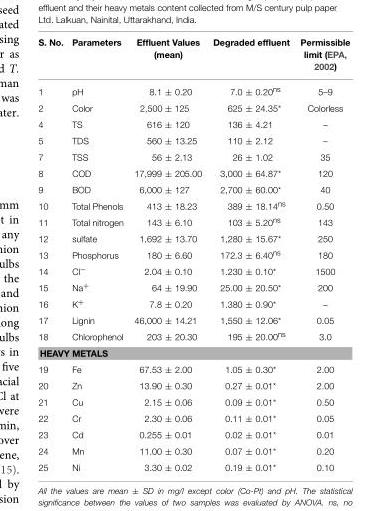table: (37, 37, 349, 471)
table column: (206, 37, 294, 471), (128, 37, 206, 471), (66, 37, 128, 471), (294, 37, 349, 471), (37, 37, 66, 471)
table column header: (37, 37, 349, 78)
table projected row header: (37, 344, 349, 361)
table row: (37, 37, 349, 78), (37, 78, 349, 99), (37, 99, 349, 116), (37, 148, 349, 165), (37, 196, 349, 213), (37, 213, 349, 230), (37, 245, 349, 262), (37, 278, 349, 295), (37, 295, 349, 312), (37, 327, 349, 344), (37, 344, 349, 361), (37, 393, 349, 410), (37, 442, 349, 459), (37, 116, 349, 132), (37, 132, 349, 148), (37, 165, 349, 181), (37, 262, 349, 278), (37, 361, 349, 377), (37, 377, 349, 393), (37, 410, 349, 426), (37, 426, 349, 442), (37, 181, 349, 196), (37, 230, 349, 245), (37, 312, 349, 327), (37, 459, 349, 471)
